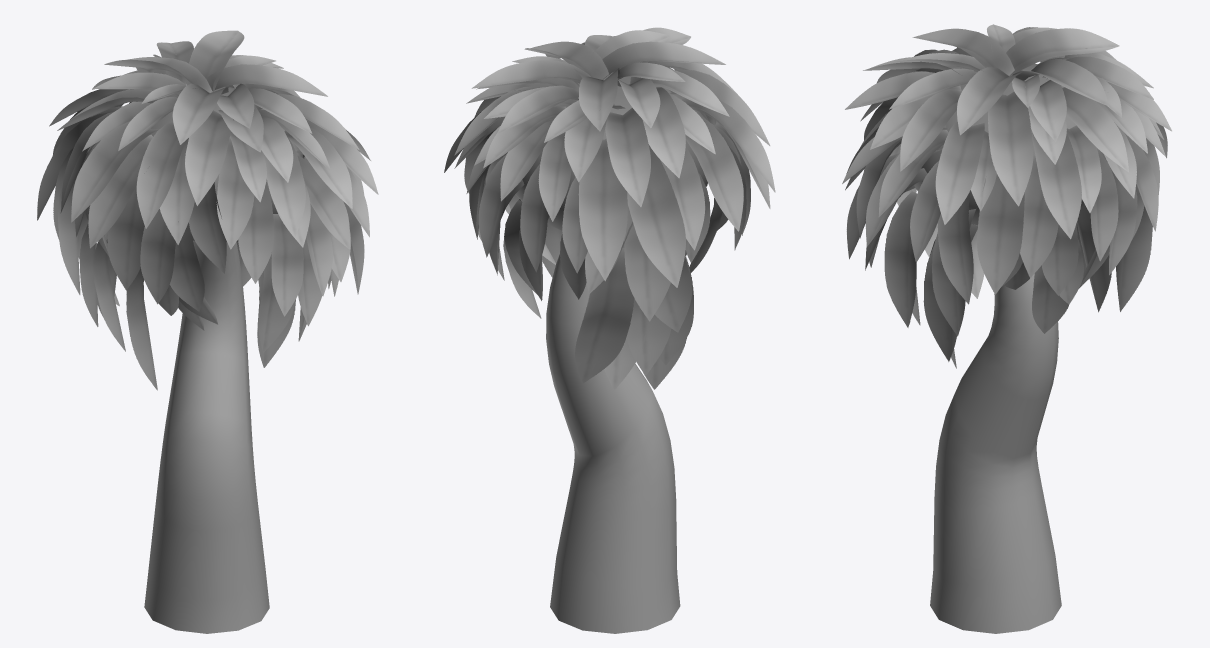
File: Willow.fbx
The picture shows the model from 3 angles, left to right: view 1: azimuth 30°, elevation 25°; view 2: azimuth 150°, elevation 25°; view 3: azimuth 270°, elevation 25°; orthographic projection. The views are drawn at different scales.
Visible parts, largest first — view 1: Trunk2; view 2: Trunk2; view 3: Trunk2.
Boxes of the visible parts, x1=… form: Trunk2: x1=37, y1=30, x2=378, y2=633; Trunk2: x1=444, y1=27, x2=775, y2=633; Trunk2: x1=842, y1=24, x2=1171, y2=633.
Bounding box in the file's own units: 176 × 289 × 172.
2 materials, 1 textured.
